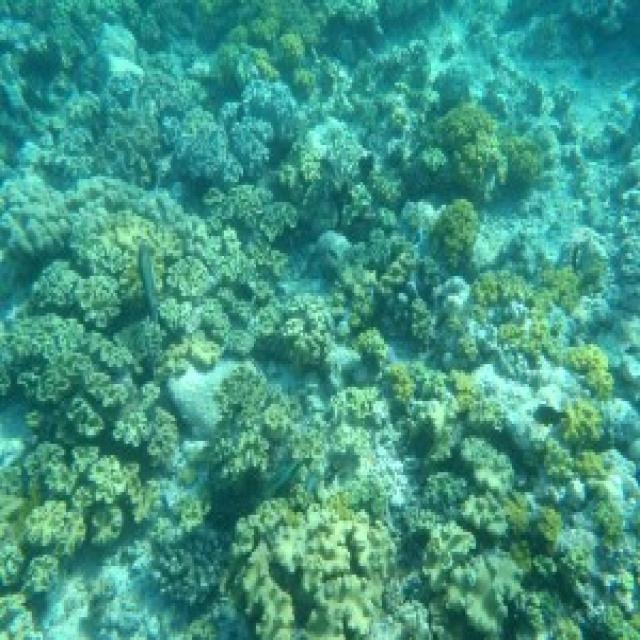Healthy: (408, 439, 639, 638), (1, 442, 155, 638), (231, 459, 394, 638), (112, 194, 257, 376), (1, 314, 176, 459), (52, 58, 204, 186), (202, 362, 321, 522), (170, 81, 302, 186), (406, 103, 543, 203), (33, 226, 148, 331), (202, 1, 327, 95), (468, 271, 577, 374), (340, 229, 434, 348), (280, 118, 372, 234), (383, 362, 509, 445), (150, 493, 227, 613), (1, 177, 69, 285), (259, 294, 334, 374), (155, 246, 212, 345), (543, 399, 613, 479), (210, 186, 298, 243), (67, 180, 182, 223), (332, 388, 379, 473), (434, 200, 479, 268), (564, 348, 611, 399), (112, 254, 146, 314), (359, 328, 389, 374)
